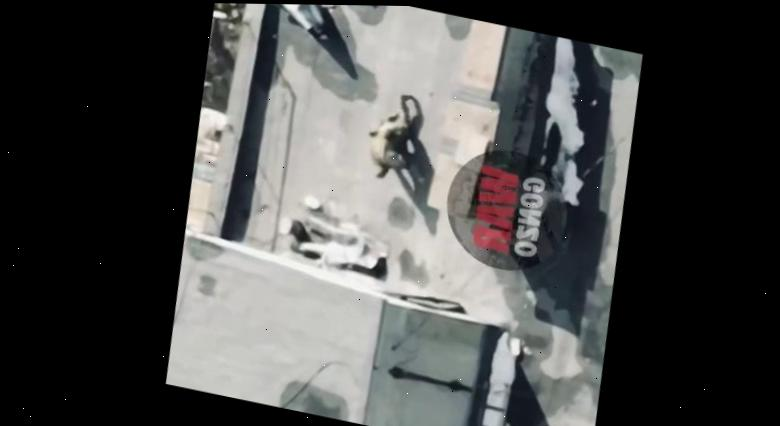person: (362, 86, 434, 180)
